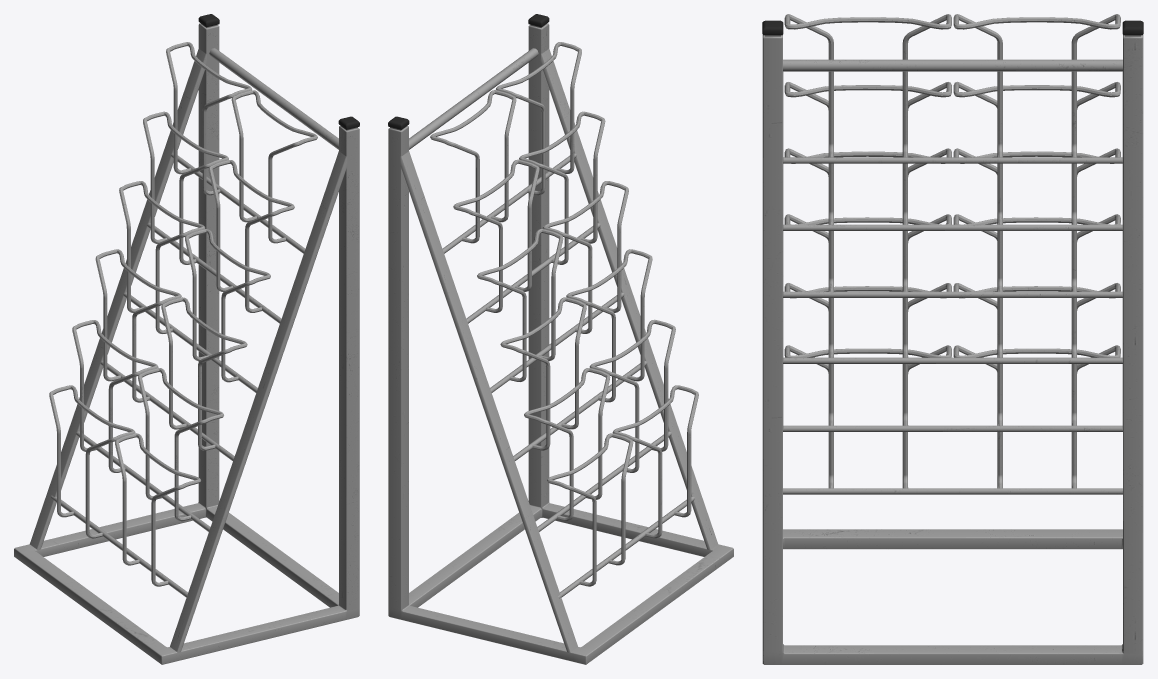
File: SM_NewspaperStand.fbx
3 renders of one model, left to right at view 1: azimuth 30°, elevation 25°; view 2: azimuth 150°, elevation 25°; view 3: azimuth 270°, elevation 25°, orthographic. The views are drawn at different scales.
Parts seen in each view (by area): view 1: SM_NewspaperStand_LOD0; view 2: SM_NewspaperStand_LOD0; view 3: SM_NewspaperStand_LOD0.
Boxes of the visible parts, x1=… form: SM_NewspaperStand_LOD0: x1=14, y1=14, x2=359, y2=664; SM_NewspaperStand_LOD0: x1=388, y1=14, x2=733, y2=664; SM_NewspaperStand_LOD0: x1=762, y1=14, x2=1143, y2=664.
Bounding box in the file's own units: 43.38 × 56.09 × 103.
